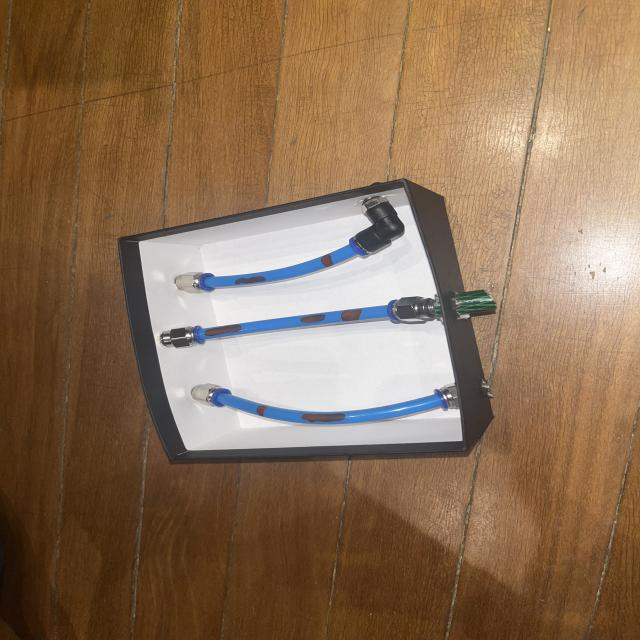hose_damage: (298, 412, 347, 424), (201, 324, 243, 337), (339, 308, 363, 323), (231, 276, 268, 285), (298, 314, 326, 324), (254, 403, 268, 418), (319, 255, 335, 267)
